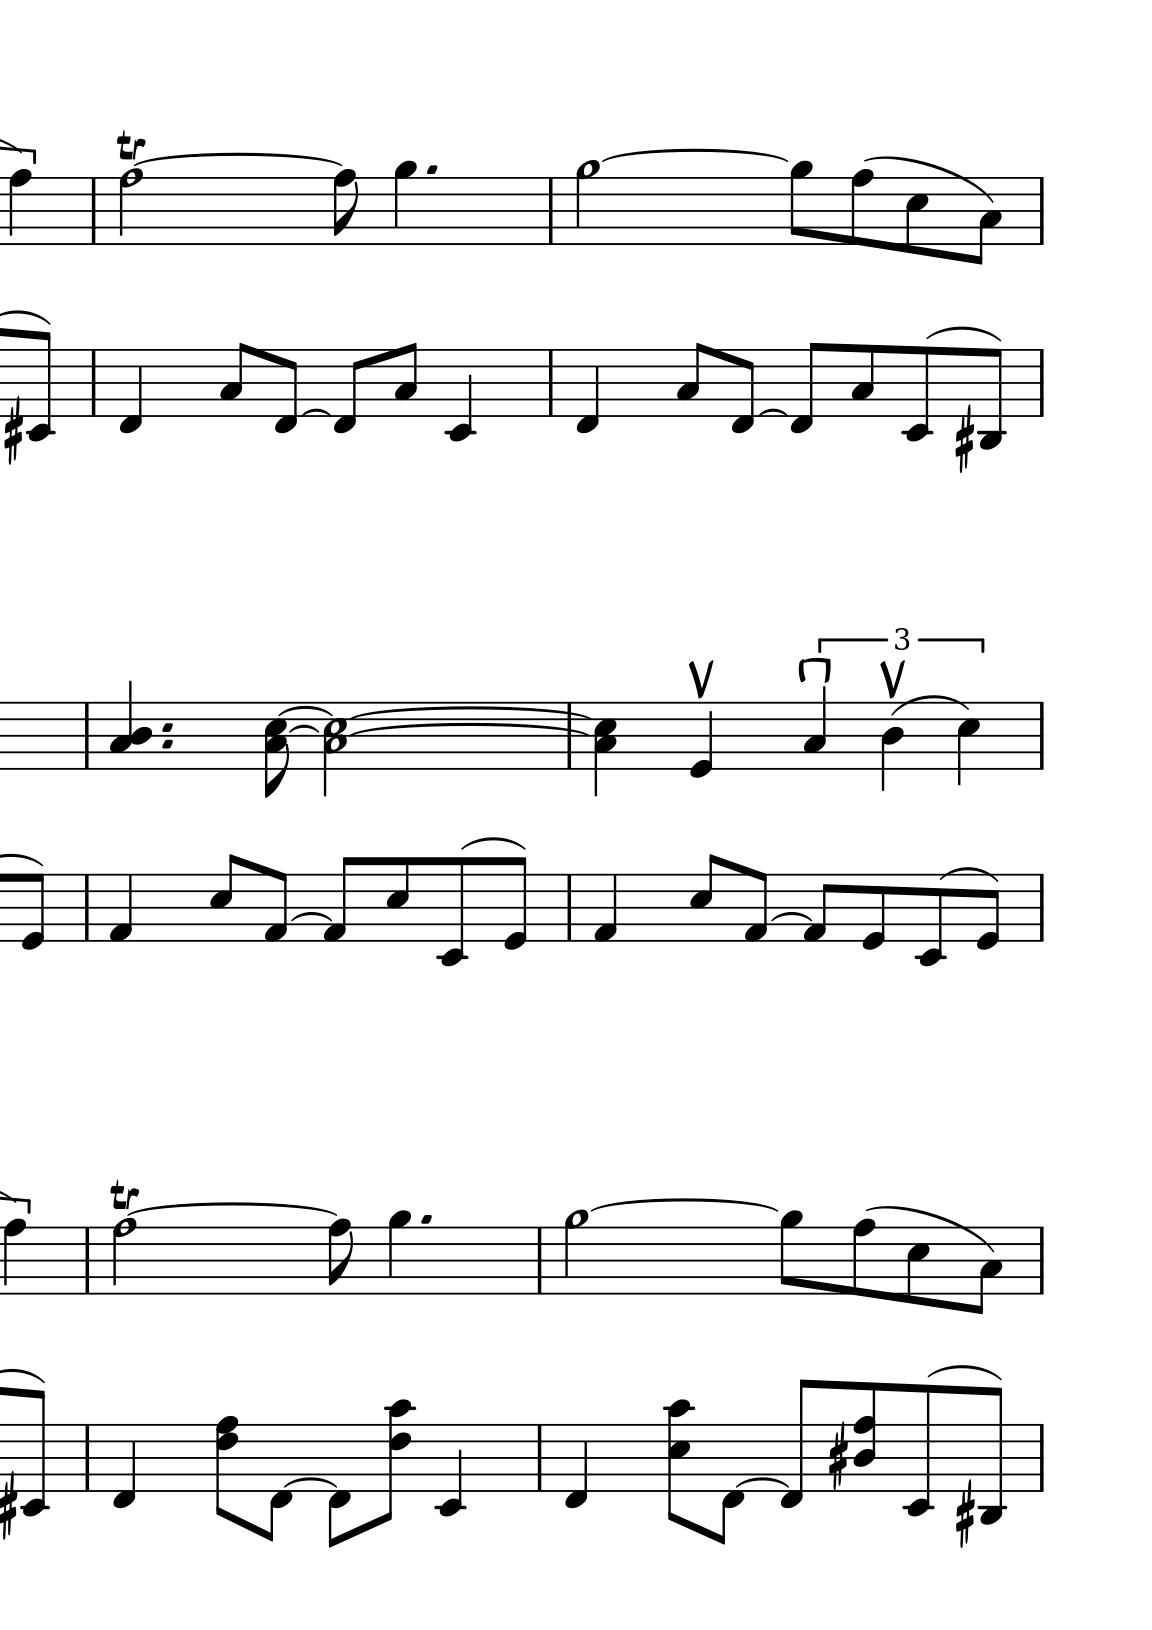2_3_5: (322, 700, 348, 799)
2_8: (110, 1216, 137, 1297), (116, 167, 142, 248)
2_9: (562, 1209, 588, 1297), (574, 160, 598, 248)
3: (894, 626, 911, 655)
4_-1: (108, 1422, 137, 1512), (116, 346, 143, 436), (572, 348, 600, 436), (562, 1423, 588, 1512)
4_-2: (445, 346, 474, 442), (436, 1422, 463, 1519)
4_0: (688, 700, 713, 779)
4_1: (105, 872, 133, 945), (590, 874, 618, 945)
4_3: (800, 685, 828, 771)
4_3_4: (108, 680, 152, 771)
4_3_5: (592, 702, 617, 796)
4_4: (878, 702, 905, 794)
4_5: (955, 700, 981, 788)
4_8: (1, 1216, 27, 1297), (6, 167, 32, 247)
4_9: (391, 160, 418, 245), (386, 1209, 411, 1296)
8_-1: (777, 1377, 815, 1512), (714, 1419, 746, 1547), (263, 1421, 293, 1542), (787, 340, 824, 436), (325, 1421, 352, 1548), (330, 346, 365, 436), (271, 348, 299, 436), (728, 348, 756, 436)
8_-2: (901, 1380, 935, 1524), (21, 1385, 49, 1519), (436, 855, 468, 970), (26, 329, 55, 442), (913, 872, 945, 970), (901, 344, 933, 442)
8_-3: (979, 1385, 1004, 1525), (977, 346, 1002, 451)
8_0: (501, 854, 529, 953), (19, 872, 46, 952), (859, 872, 886, 952), (974, 874, 1001, 953)
8_1: (320, 855, 357, 945), (800, 874, 834, 945), (741, 869, 769, 945), (261, 869, 288, 945)
8_3: (967, 174, 1002, 265), (969, 1225, 1002, 1317), (218, 340, 251, 417), (674, 340, 706, 417), (848, 341, 876, 419), (391, 340, 419, 417)
8_3_5: (262, 700, 290, 801)
8_4_8: (852, 1381, 879, 1495)
8_5: (687, 852, 721, 945), (207, 851, 239, 943), (383, 855, 410, 945), (901, 174, 930, 255), (904, 1225, 931, 1306)
8_5_10: (660, 1397, 697, 1528)
8_6_10: (379, 1397, 414, 1524)
8_6_8: (213, 1414, 239, 1524)
8_8: (330, 168, 360, 247), (325, 1218, 355, 1296), (847, 168, 873, 249), (849, 1218, 875, 1299)
8_9: (788, 160, 813, 247), (778, 1209, 803, 1296)
Down_bow: (797, 654, 835, 683)
Sharp: (825, 1421, 849, 1492), (953, 406, 974, 474), (954, 1482, 975, 1549), (2, 398, 22, 465), (1, 1472, 17, 1542)
Single_barline: (542, 177, 561, 244), (560, 874, 578, 941), (79, 1226, 97, 1294), (530, 1227, 549, 1294), (85, 177, 103, 242), (561, 702, 578, 770), (542, 350, 560, 417), (531, 1424, 549, 1492), (79, 874, 95, 941), (79, 1424, 95, 1492), (85, 350, 101, 416), (1034, 349, 1049, 417), (1034, 178, 1049, 245), (1034, 702, 1049, 769), (1034, 874, 1049, 941), (1034, 1424, 1049, 1492), (1034, 1227, 1049, 1294), (79, 703, 94, 768)
Slur: (866, 155, 997, 206), (345, 722, 588, 736), (348, 704, 588, 719), (598, 147, 792, 162), (133, 155, 342, 168), (894, 694, 969, 714), (925, 325, 1001, 341), (938, 864, 999, 884), (459, 834, 525, 851), (1, 307, 50, 326), (277, 704, 332, 717), (289, 912, 332, 923), (769, 912, 812, 923), (287, 724, 319, 735), (300, 407, 332, 417), (758, 407, 787, 417)
Tremolo_bar: (686, 657, 717, 702), (878, 658, 906, 702)
Trill: (112, 125, 147, 163), (106, 1176, 141, 1211)
dot: (421, 162, 438, 177), (156, 738, 175, 750), (157, 722, 175, 734)
